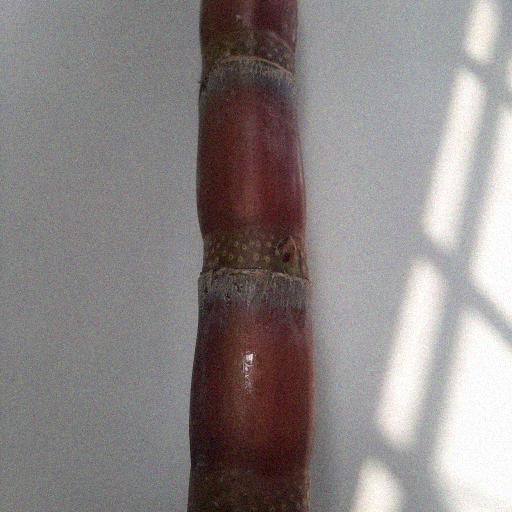Bud: (274, 232, 302, 266)
